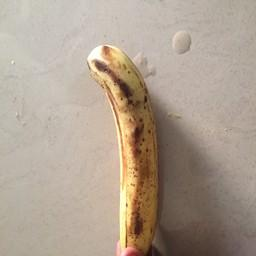Banana Ripe: (69, 32, 185, 256)
